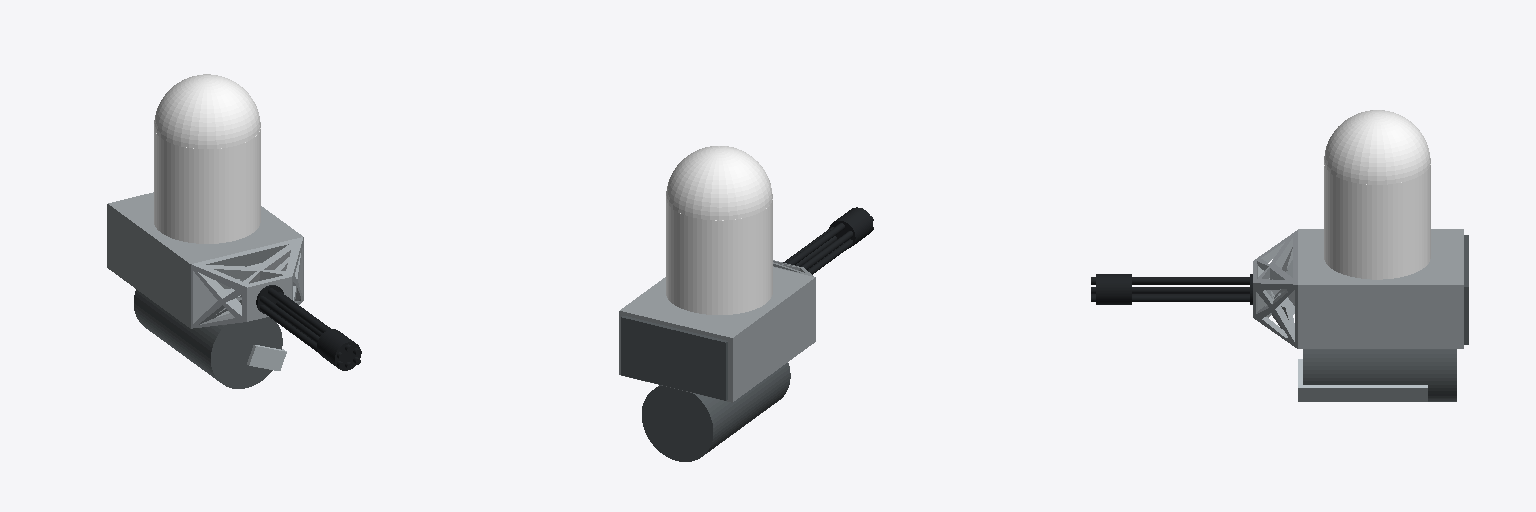
File: tinker.obj
The picture shows the model from 3 angles: view 1: azimuth 30°, elevation 25°; view 2: azimuth 150°, elevation 25°; view 3: azimuth 270°, elevation 25°; orthographic projection.
Parts seen in each view (by area): view 1: obj_0; view 2: obj_0; view 3: obj_0.
Boxes of the visible parts, <box> form: obj_0: <box>107,74,361,388</box>; obj_0: <box>619,146,873,461</box>; obj_0: <box>1091,110,1468,401</box>.
Bounding box in the file's own units: 55 × 131 × 159.